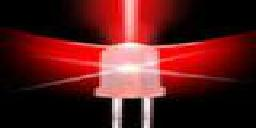LED: (91, 39, 168, 128)
